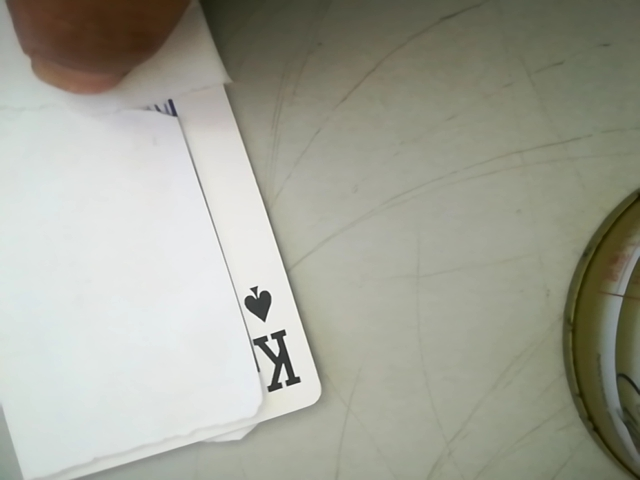ht k: (229, 271, 306, 408)
